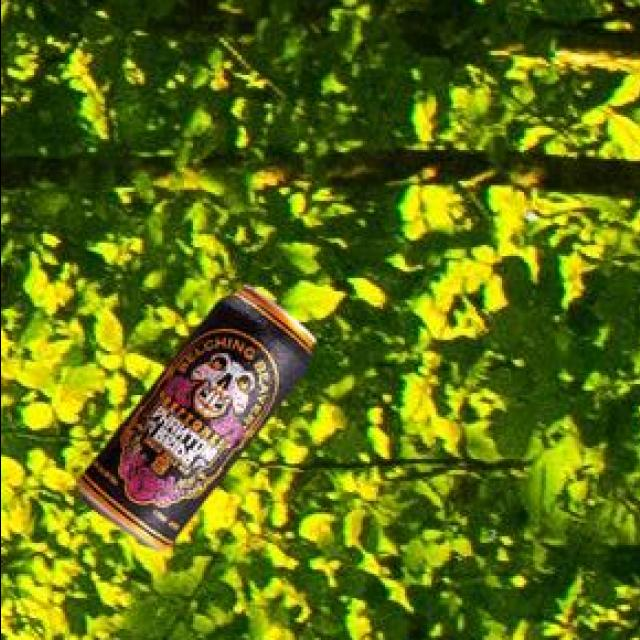logam: (74, 288, 312, 555)
